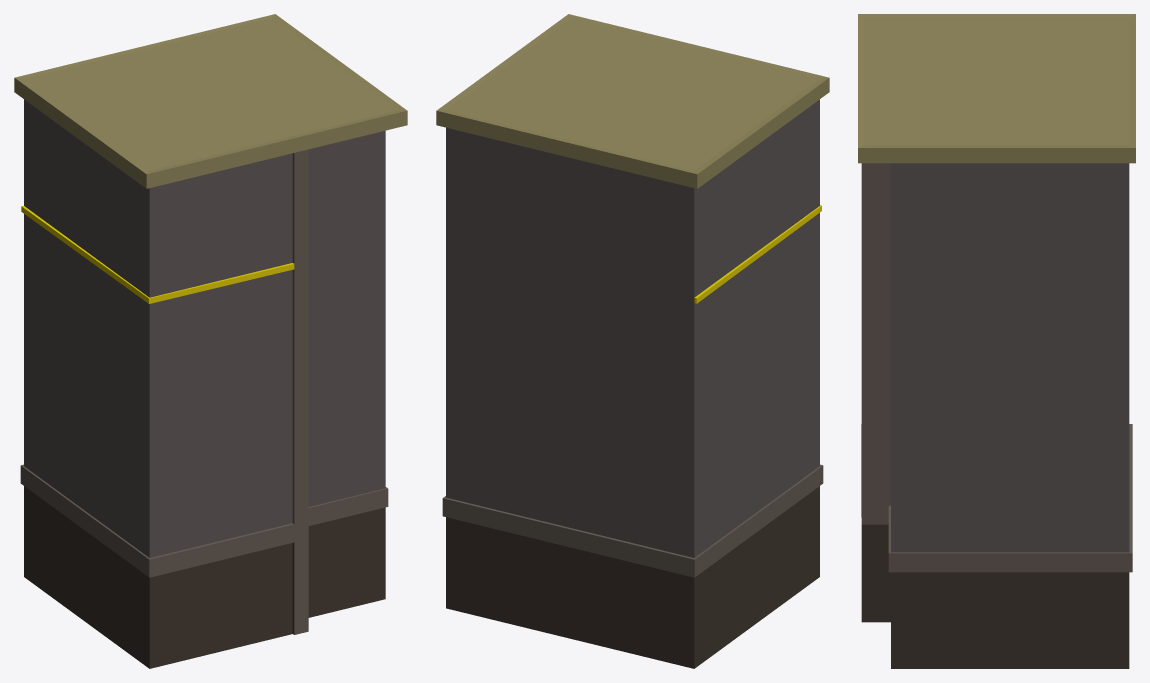
The model's file is 5story building.fbx.
3 views of the same model, side by side, from view 1: azimuth 30°, elevation 25°; view 2: azimuth 150°, elevation 25°; view 3: azimuth 270°, elevation 25° (orthographic). The views are drawn at different scales.
Parts seen in each view (by area): view 1: pCube6; view 2: pCube6; view 3: pCube6.
Part boxes in pixels (bbox=[...]): pCube6: bbox=[14, 14, 407, 668]; pCube6: bbox=[436, 14, 829, 668]; pCube6: bbox=[858, 14, 1135, 668].
Bounding box in the file's own units: 958 × 1750 × 840.
